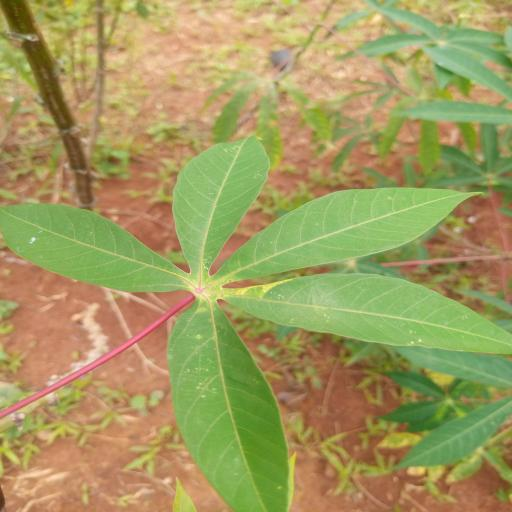Cassava_Mosaic: (2, 132, 512, 512)
